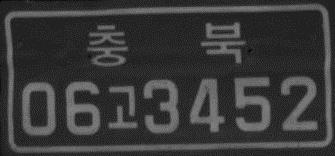0: (19, 78, 58, 138)
2: (278, 74, 319, 135)
3: (142, 77, 180, 135)
4: (188, 75, 225, 134)
5: (230, 74, 273, 134)
6: (63, 78, 103, 138)
고: (106, 81, 138, 132)
충북_D: (84, 20, 247, 72)
